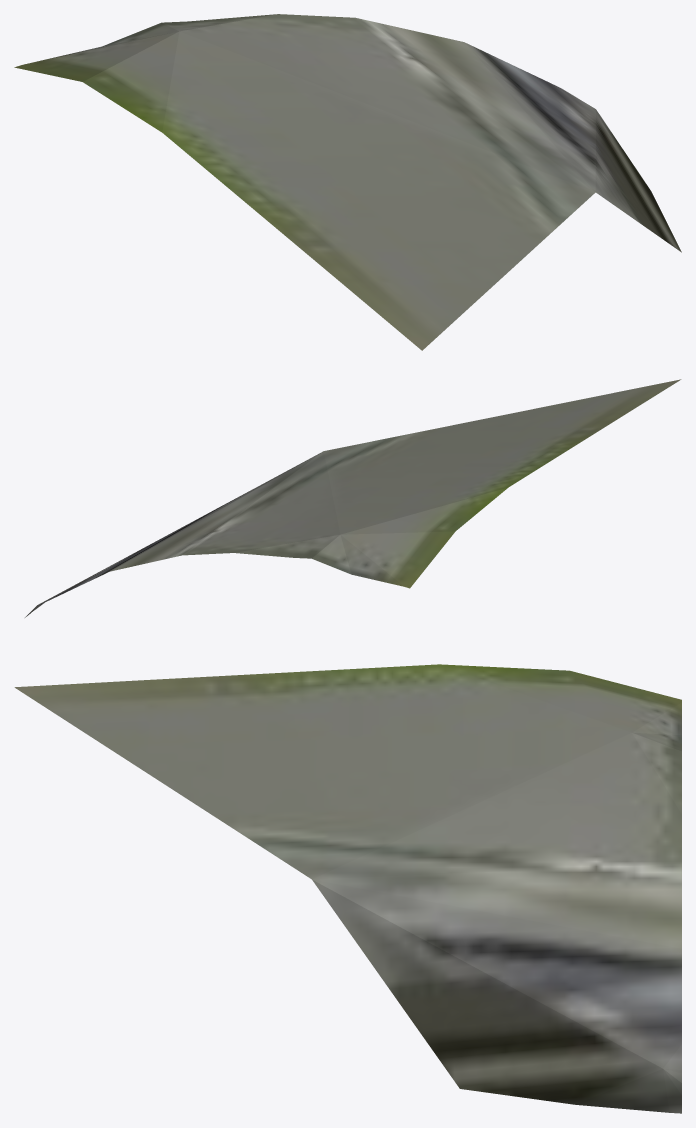
The picture shows the model from 3 angles, top to bottom: view 1: azimuth 30°, elevation 25°; view 2: azimuth 150°, elevation 25°; view 3: azimuth 270°, elevation 25°; orthographic projection. The views are drawn at different scales.
Size of the model in its own units: 0.9446 by 0.3936 by 1.12.
Materials: 1 (1 with a texture image).
